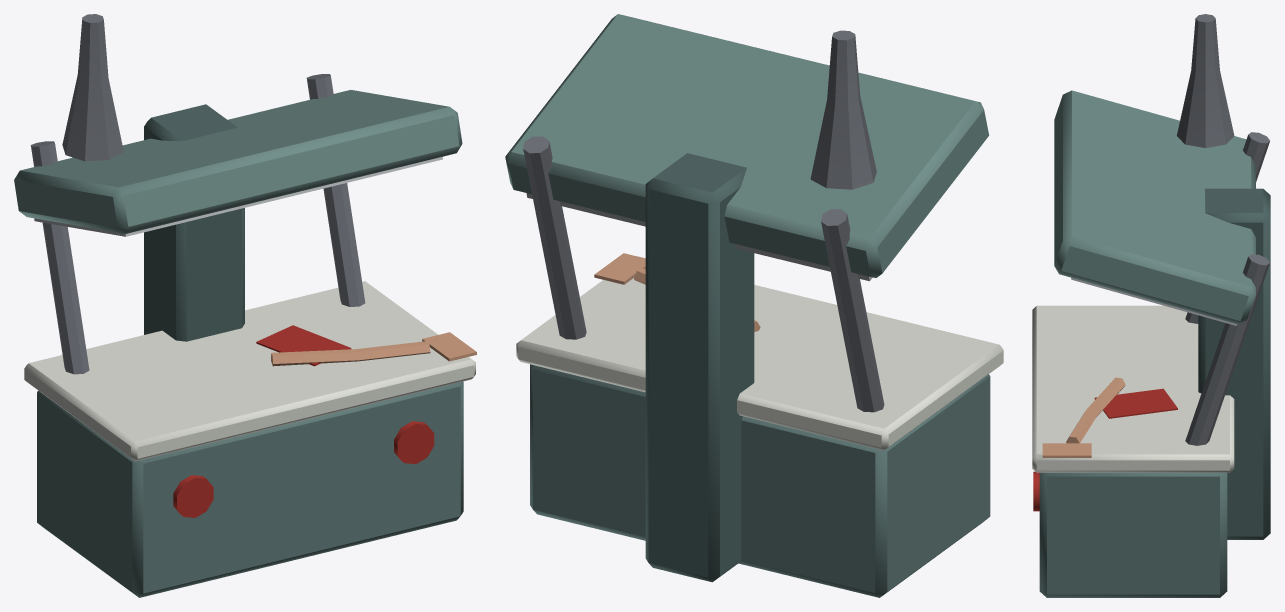
The model's file is steam_press.glb.
3 renders of one model, left to right at view 1: azimuth 30°, elevation 25°; view 2: azimuth 150°, elevation 25°; view 3: azimuth 270°, elevation 25°, orthographic. The views are drawn at different scales.
Parts seen in each view (by area): view 1: steam_press; view 2: steam_press; view 3: steam_press.
Boxes of the visible parts, left/top/right/bottom form: steam_press: left=14, top=14, right=476, bottom=597; steam_press: left=505, top=14, right=1003, bottom=597; steam_press: left=1032, top=14, right=1270, bottom=597.
Size of the model in its own units: 2.53 by 3.5 by 1.65.
